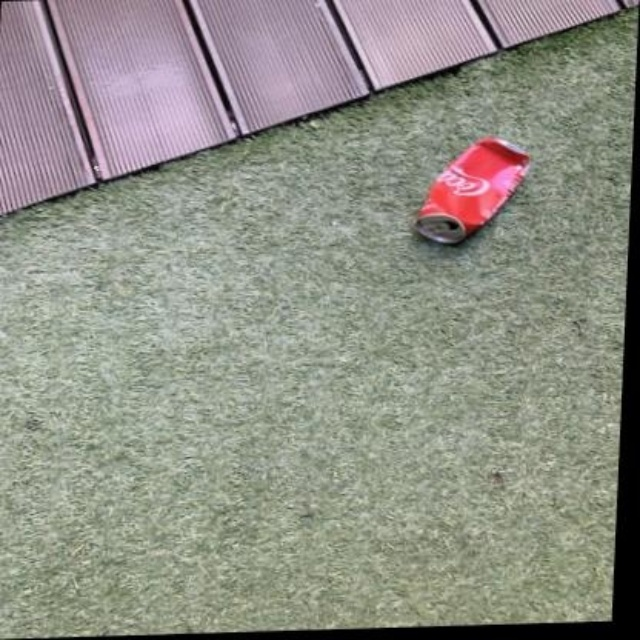trash: (417, 135, 528, 243)
